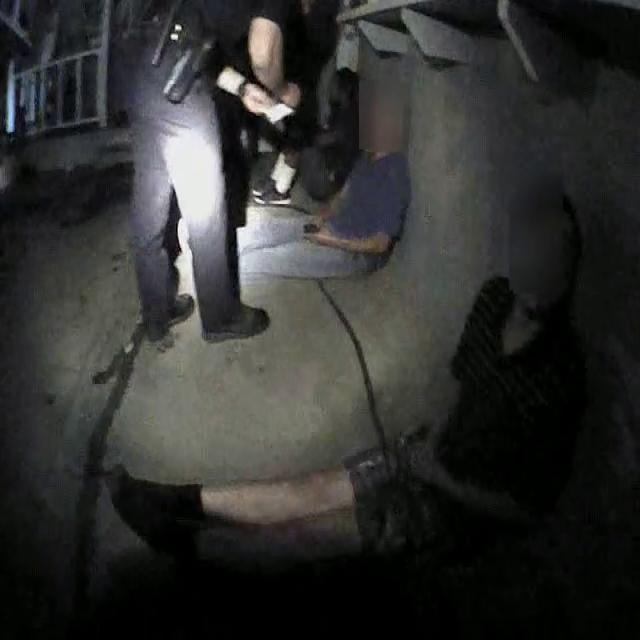gun: (155, 9, 226, 113)
